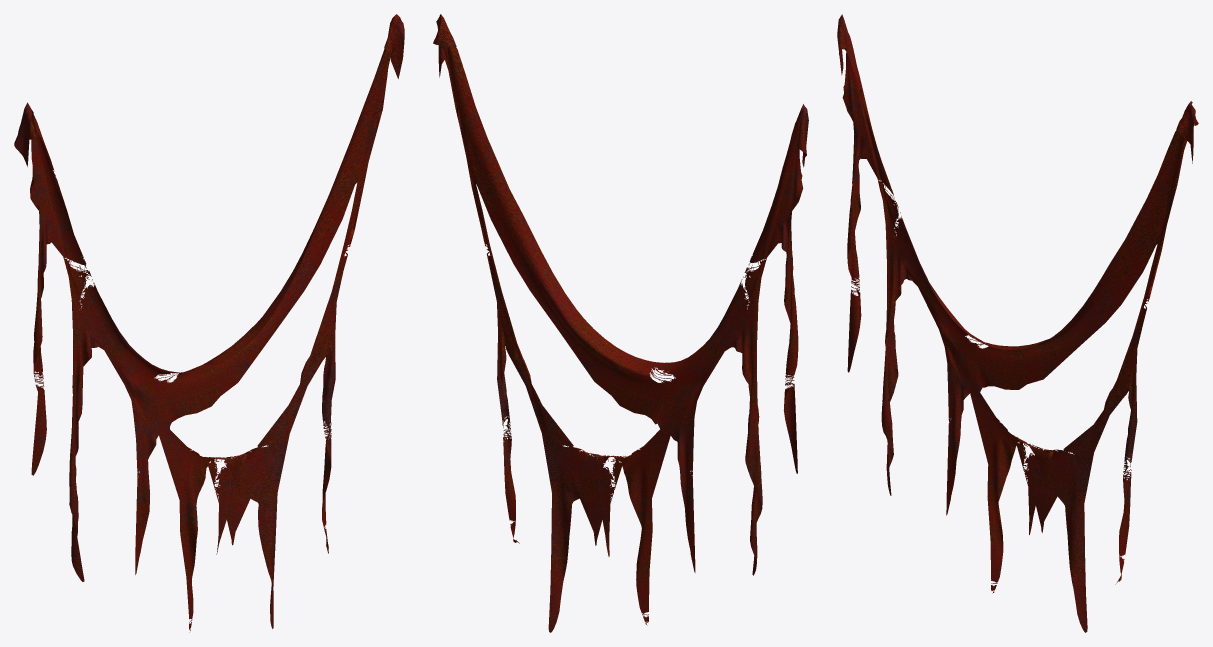
The model's file is P_Cloth03.fbx.
The picture shows the model from 3 angles, left to right: view 1: azimuth 30°, elevation 25°; view 2: azimuth 150°, elevation 25°; view 3: azimuth 330°, elevation 25°; orthographic projection. The views are drawn at different scales.
Parts seen in each view (by area): view 1: P_Cloth03; view 2: P_Cloth03; view 3: P_Cloth03.
Part boxes in pixels (x1,y1,x2,y2): P_Cloth03: (14, 14, 404, 632); P_Cloth03: (433, 14, 808, 632); P_Cloth03: (837, 14, 1198, 632).
Bounding box in the file's own units: 2531 × 3751 × 163.
